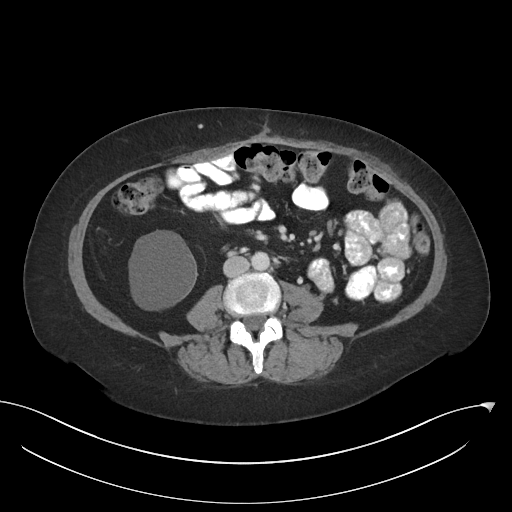Lesion: (124, 228, 199, 314)
